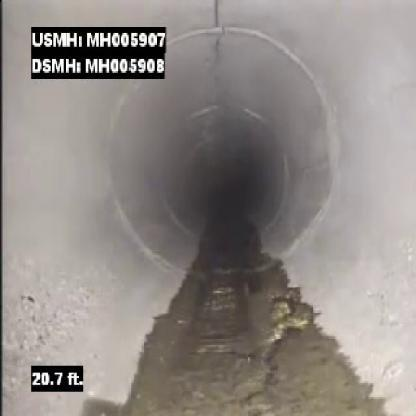crack: (232, 354, 304, 408), (206, 2, 232, 89)
hole: (263, 286, 318, 348)
